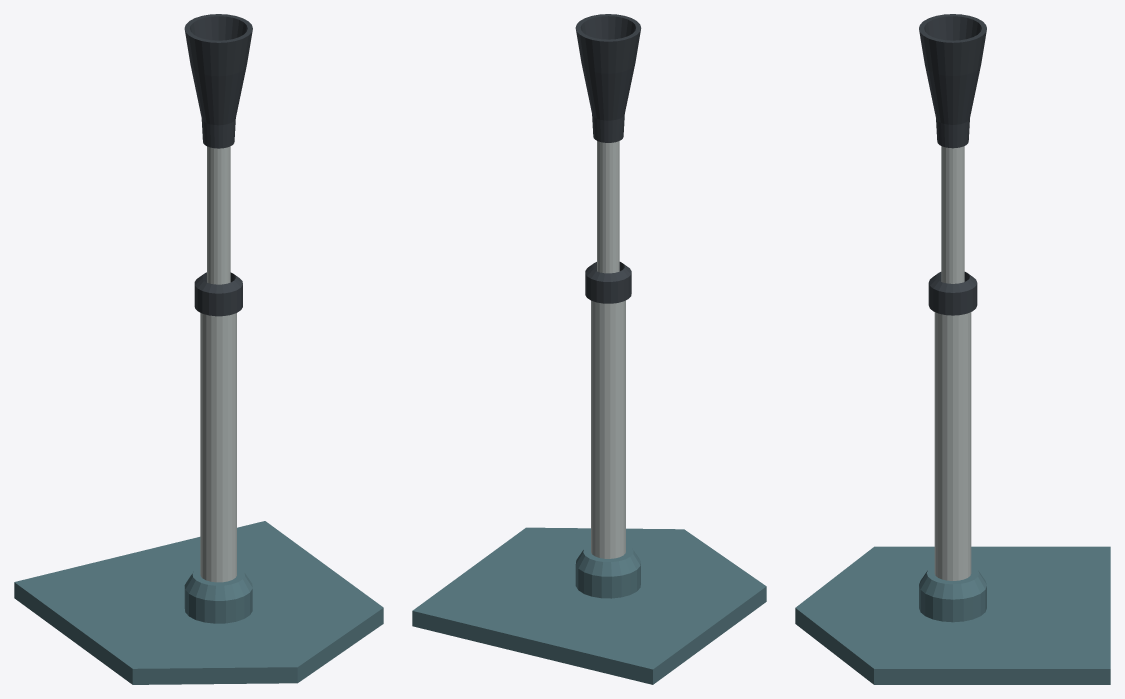
3 views of the same model, side by side, from view 1: azimuth 30°, elevation 25°; view 2: azimuth 150°, elevation 25°; view 3: azimuth 270°, elevation 25° (orthographic). The views are drawn at different scales.
Visible parts, largest first — view 1: WholePentagonalGroundBase, WholeLowerUprightMast, WholeOpenFlaredBallRestCup, WholeUpperNarrowMast, WholeRootedMastSocket, WholeFiniteTransitionCollar; view 2: WholePentagonalGroundBase, WholeLowerUprightMast, WholeOpenFlaredBallRestCup, WholeUpperNarrowMast, WholeRootedMastSocket, WholeFiniteTransitionCollar; view 3: WholePentagonalGroundBase, WholeLowerUprightMast, WholeOpenFlaredBallRestCup, WholeUpperNarrowMast, WholeRootedMastSocket, WholeFiniteTransitionCollar.
Part boxes in pixels (<box>): WholePentagonalGroundBase: <box>14,521,383,684</box>; WholeLowerUprightMast: <box>200,313,236,582</box>; WholeOpenFlaredBallRestCup: <box>184,14,252,148</box>; WholeUpperNarrowMast: <box>207,146,230,284</box>; WholeRootedMastSocket: <box>184,567,252,623</box>; WholeFiniteTransitionCollar: <box>194,272,242,316</box>; WholePentagonalGroundBase: <box>412,527,766,684</box>; WholeLowerUprightMast: <box>591,300,625,558</box>; WholeOpenFlaredBallRestCup: <box>575,14,641,142</box>; WholeUpperNarrowMast: <box>597,141,619,273</box>; WholeRootedMastSocket: <box>575,544,640,598</box>; WholeFiniteTransitionCollar: <box>585,262,631,303</box>; WholePentagonalGroundBase: <box>795,546,1110,684</box>; WholeLowerUprightMast: <box>934,312,971,580</box>; WholeOpenFlaredBallRestCup: <box>919,14,986,148</box>; WholeUpperNarrowMast: <box>941,146,964,283</box>; WholeRootedMastSocket: <box>919,565,986,622</box>; WholeFiniteTransitionCollar: <box>928,272,977,315</box>.
Bounding box in the file's own units: 0.44 × 1 × 0.48.
